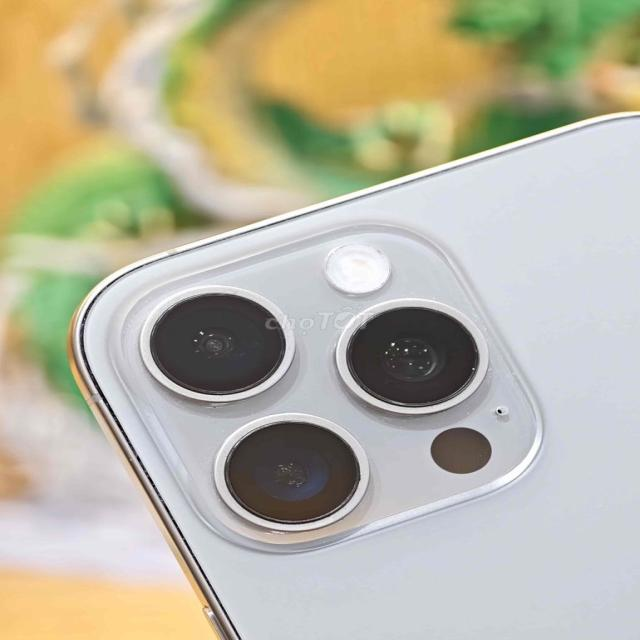gen_16: (30, 108, 639, 640)
